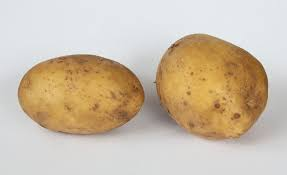potato: (157, 32, 268, 144), (16, 52, 143, 137)
